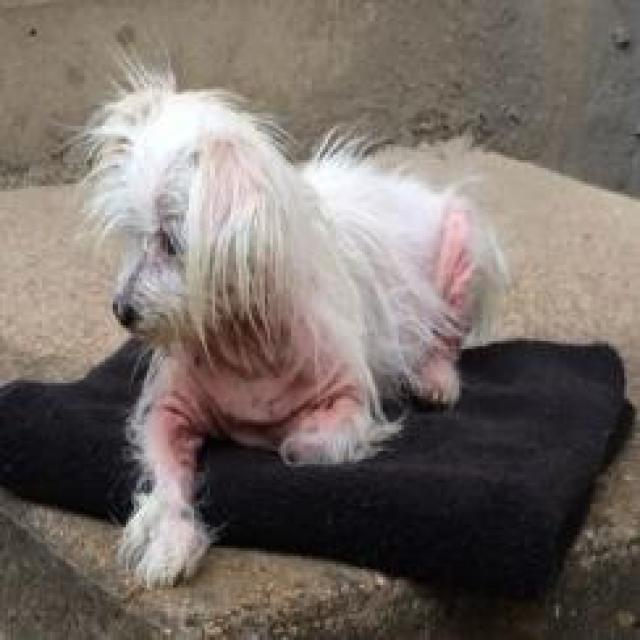allergic dermatitis: (189, 361, 358, 452), (425, 211, 470, 397), (154, 352, 193, 504)
